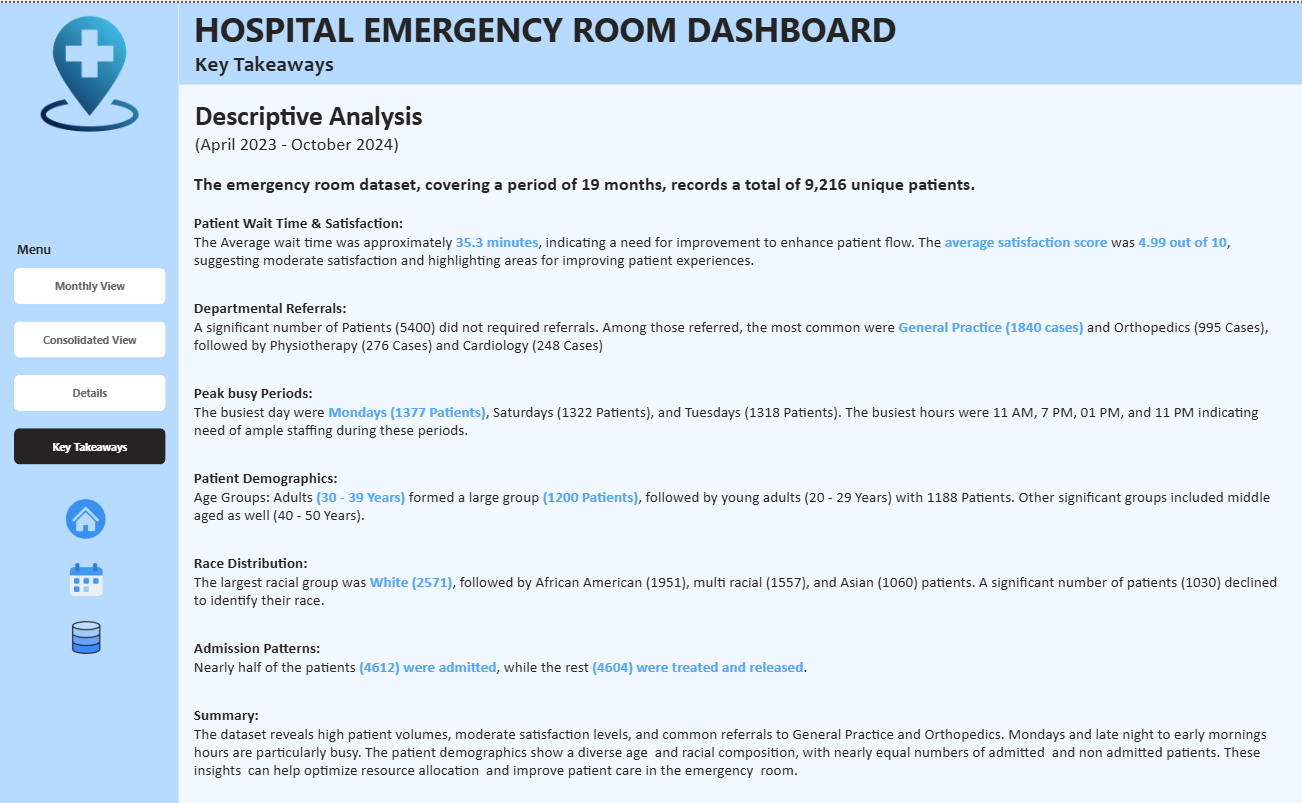

The page's visual inventory and layout, read from the dashboard file:
{"tool":"powerbi","page":{"name":"Key Takeaways","canvas":[2300,1400],"ordinal":3},"visuals":[{"type":"shape","box":[0,0,311.3,1399.9],"z":0},{"type":"shape","box":[311.3,0,1989.1,142.1],"z":1000},{"type":"textbox","box":[332.2,0,1280.5,90],"z":2000},{"type":"image","box":[46.9,17.9,218.9,212.2],"z":3000},{"type":"textbox","box":[333.7,76.1,411.3,59],"z":4000},{"type":"textbox","box":[333.7,161.4,707.8,113.3],"z":5000},{"type":"textbox","box":[332.2,290.2,1930.8,59],"z":6000},{"type":"textbox","box":[333.4,362.4,1905.4,116],"z":7000},{"type":"textbox","box":[333.4,510.3,1905.4,116],"z":8000},{"type":"textbox","box":[333.4,658.2,1905.4,116],"z":9000},{"type":"textbox","box":[333.4,806.1,1905.4,116],"z":10000},{"type":"textbox","box":[331.8,954,1905.4,116],"z":11000},{"type":"textbox","box":[333.4,1101.9,1905.4,85.4],"z":12000},{"type":"textbox","box":[333.4,1219.3,1905.4,149.8],"z":13000},{"type":"pageNavigator","box":[24.2,462.3,264.1,343.1],"z":14000},{"type":"textbox","box":[24.2,409.1,99.9,48.3],"z":15000},{"type":"textbox","box":[76.6,1260.7,130.6,38.3],"z":16000},{"type":"textbox","box":[25.8,1290.1,262.5,62.8],"z":17000},{"type":"textbox","box":[29,1336.8,257.7,45.1],"z":18000},{"type":"image","box":[110.1,854.1,79.5,87.7],"z":19000},{"type":"image","box":[116.2,966.2,67.3,75.4],"z":20000},{"type":"image","box":[116.2,1068.1,67.3,75.4],"z":21000}]}

Visuals, with their boxes in screenshot pixels (x1, y1, x2, y2), scaled from the page's 2300x1400 canvas onto the 1302x803 screenshot:
shape: 0 0 176 802
shape: 176 0 1301 82
textbox: 188 0 913 52
image: 27 10 150 132
textbox: 189 44 422 77
textbox: 189 93 590 158
textbox: 188 166 1281 200
textbox: 189 208 1267 274
textbox: 189 293 1267 359
textbox: 189 378 1267 444
textbox: 189 462 1267 529
textbox: 188 547 1266 614
textbox: 189 632 1267 681
textbox: 189 699 1267 785
pageNavigator: 14 265 163 462
textbox: 14 235 70 262
textbox: 43 723 117 745
textbox: 15 740 163 776
textbox: 16 767 162 793
image: 62 490 107 540
image: 66 554 104 597
image: 66 613 104 656
